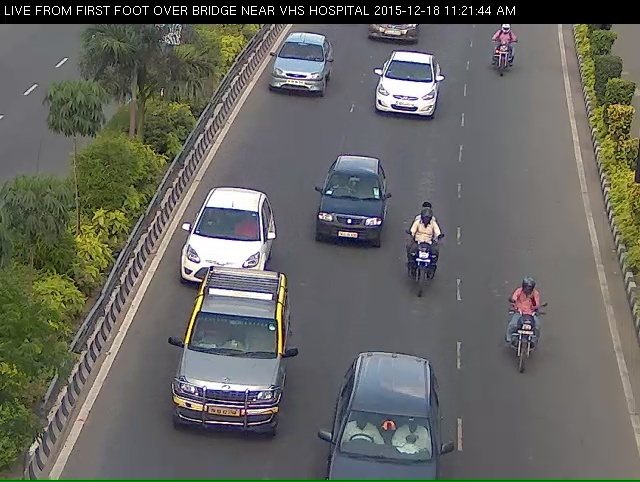Car: (178, 282, 289, 461), (313, 374, 442, 481), (179, 192, 267, 294), (309, 163, 390, 264), (371, 54, 443, 134), (265, 31, 334, 105)
Person: (500, 286, 561, 386), (401, 217, 451, 312), (485, 23, 524, 84)
